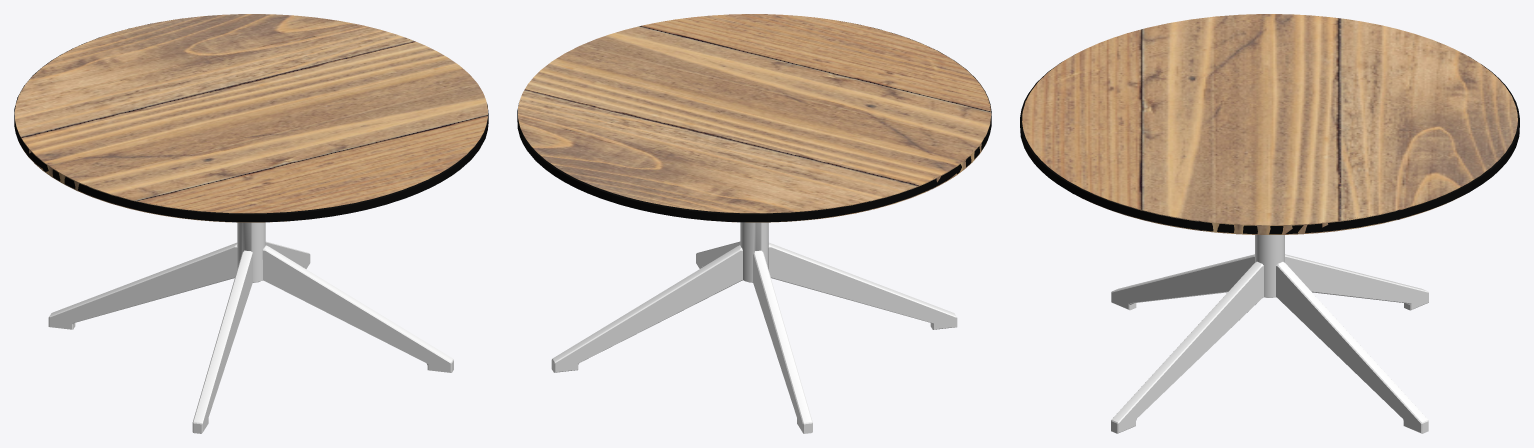
File: model-krug1.glb
3 views of the same model, side by side, from view 1: azimuth 30°, elevation 25°; view 2: azimuth 150°, elevation 25°; view 3: azimuth 270°, elevation 25° (orthographic). The views are drawn at different scales.
Visible parts, largest first — view 1: L_8d966dca_8afe_458f_9fc5_cabb543fb8d6_C1_I4, L_d5f370f3_7af2_4852_b3c4_884c1f749d2d_C1_I7, L_bbff62fc_4103_4c9c_8e8e_c560601854be_C1_I5, L_ea61aa8d_9d6e_4439_aafc_8b4f5b4d2b37_C1_I8, L_87a5ad65_50b4_454e_a42e_22bc071fdc33_C1_I3, L_70e3f1c8_df53_4a0b_abdf_076ae4eab81c_C1_I2, L_bfd296df_4c05_4615_90de_c7a12348349b_C1_I6; view 2: L_8d966dca_8afe_458f_9fc5_cabb543fb8d6_C1_I4, L_bfd296df_4c05_4615_90de_c7a12348349b_C1_I6, L_87a5ad65_50b4_454e_a42e_22bc071fdc33_C1_I3, L_ea61aa8d_9d6e_4439_aafc_8b4f5b4d2b37_C1_I8, L_bbff62fc_4103_4c9c_8e8e_c560601854be_C1_I5, L_70e3f1c8_df53_4a0b_abdf_076ae4eab81c_C1_I2, L_d5f370f3_7af2_4852_b3c4_884c1f749d2d_C1_I7; view 3: L_8d966dca_8afe_458f_9fc5_cabb543fb8d6_C1_I4, L_d5f370f3_7af2_4852_b3c4_884c1f749d2d_C1_I7, L_bfd296df_4c05_4615_90de_c7a12348349b_C1_I6, L_ea61aa8d_9d6e_4439_aafc_8b4f5b4d2b37_C1_I8, L_bbff62fc_4103_4c9c_8e8e_c560601854be_C1_I5, L_87a5ad65_50b4_454e_a42e_22bc071fdc33_C1_I3, L_70e3f1c8_df53_4a0b_abdf_076ae4eab81c_C1_I2.
Boxes of the visible parts, left/top/right/bottom form: L_8d966dca_8afe_458f_9fc5_cabb543fb8d6_C1_I4: left=14, top=14, right=487, bottom=222; L_d5f370f3_7af2_4852_b3c4_884c1f749d2d_C1_I7: left=262, top=245, right=453, bottom=372; L_bbff62fc_4103_4c9c_8e8e_c560601854be_C1_I5: left=48, top=242, right=237, bottom=329; L_ea61aa8d_9d6e_4439_aafc_8b4f5b4d2b37_C1_I8: left=14, top=23, right=488, bottom=222; L_87a5ad65_50b4_454e_a42e_22bc071fdc33_C1_I3: left=192, top=250, right=252, bottom=433; L_70e3f1c8_df53_4a0b_abdf_076ae4eab81c_C1_I2: left=237, top=222, right=265, bottom=282; L_bfd296df_4c05_4615_90de_c7a12348349b_C1_I6: left=265, top=241, right=310, bottom=268; L_8d966dca_8afe_458f_9fc5_cabb543fb8d6_C1_I4: left=518, top=14, right=991, bottom=222; L_bfd296df_4c05_4615_90de_c7a12348349b_C1_I6: left=551, top=245, right=742, bottom=372; L_87a5ad65_50b4_454e_a42e_22bc071fdc33_C1_I3: left=768, top=242, right=957, bottom=329; L_ea61aa8d_9d6e_4439_aafc_8b4f5b4d2b37_C1_I8: left=517, top=24, right=991, bottom=222; L_bbff62fc_4103_4c9c_8e8e_c560601854be_C1_I5: left=753, top=250, right=812, bottom=433; L_70e3f1c8_df53_4a0b_abdf_076ae4eab81c_C1_I2: left=740, top=222, right=768, bottom=282; L_d5f370f3_7af2_4852_b3c4_884c1f749d2d_C1_I7: left=696, top=241, right=740, bottom=268; L_8d966dca_8afe_458f_9fc5_cabb543fb8d6_C1_I4: left=1022, top=14, right=1517, bottom=234; L_d5f370f3_7af2_4852_b3c4_884c1f749d2d_C1_I7: left=1111, top=261, right=1263, bottom=433; L_bfd296df_4c05_4615_90de_c7a12348349b_C1_I6: left=1276, top=261, right=1428, bottom=433; L_ea61aa8d_9d6e_4439_aafc_8b4f5b4d2b37_C1_I8: left=1020, top=56, right=1519, bottom=234; L_bbff62fc_4103_4c9c_8e8e_c560601854be_C1_I5: left=1285, top=254, right=1428, bottom=310; L_87a5ad65_50b4_454e_a42e_22bc071fdc33_C1_I3: left=1111, top=254, right=1254, bottom=310; L_70e3f1c8_df53_4a0b_abdf_076ae4eab81c_C1_I2: left=1255, top=235, right=1284, bottom=297.
Size of the model in its own units: 100 by 54.59 by 99.99.
8 materials, 1 textured.
